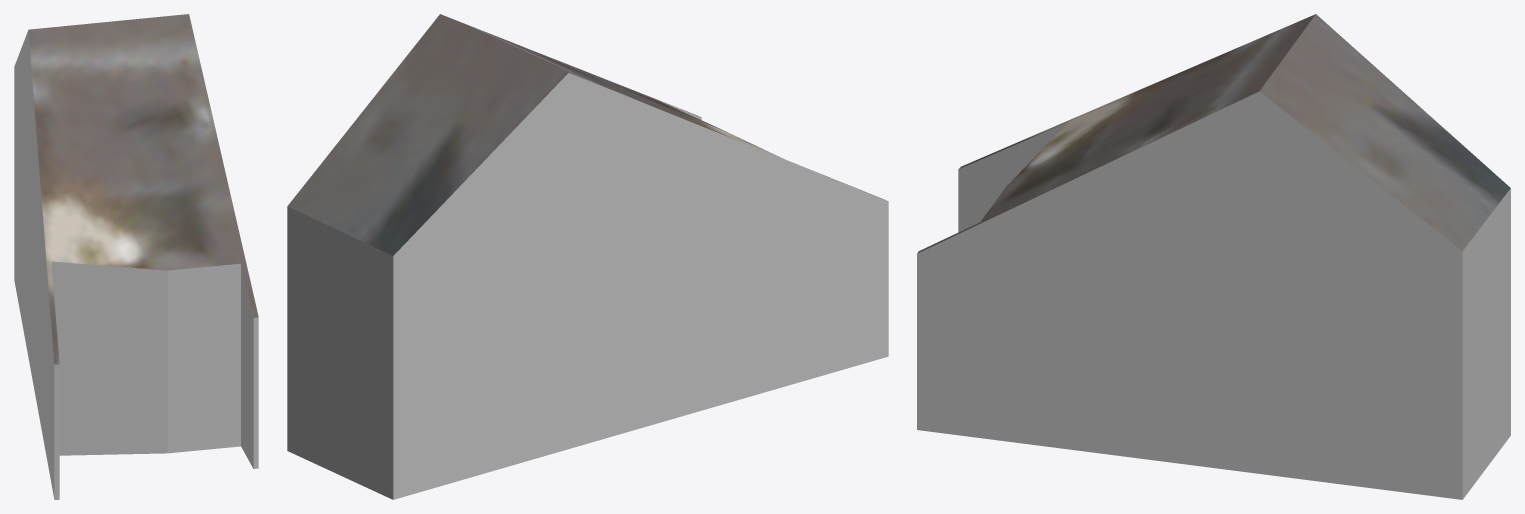
The model's file is DEBW_0010007TvlC.gltf.
The picture shows the model from 3 angles, left to right: view 1: azimuth 30°, elevation 25°; view 2: azimuth 150°, elevation 25°; view 3: azimuth 270°, elevation 25°; orthographic projection. The views are drawn at different scales.
Parts seen in each view (by area): view 1: Z_UP; view 2: Z_UP; view 3: Z_UP.
Boxes of the visible parts, box(x1,y1,x2,y2) form: Z_UP: box(14, 14, 258, 499); Z_UP: box(287, 14, 888, 499); Z_UP: box(917, 14, 1510, 499).
Bounding box in the file's own units: 11.29 × 11.47 × 16.14.
2 materials, 1 textured.
